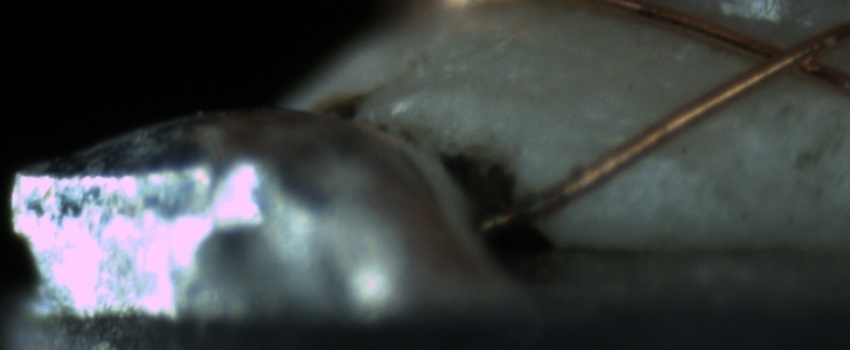CL: (728, 25, 835, 89)
DL: (539, 116, 671, 173)
